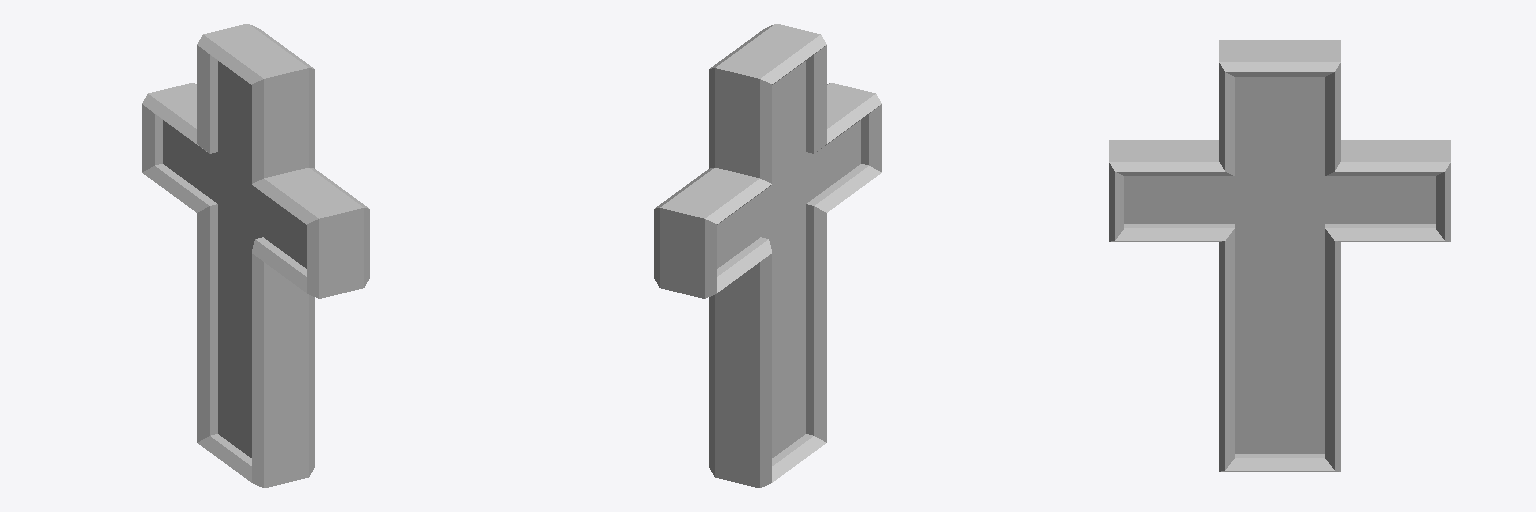
File: grave-2.obj
The picture shows the model from 3 angles: view 1: azimuth 30°, elevation 25°; view 2: azimuth 150°, elevation 25°; view 3: azimuth 270°, elevation 25°; orthographic projection.
Visible parts, largest first — view 1: cross_grave; view 2: cross_grave; view 3: cross_grave.
Part boxes in pixels (x1,y1,x2,y2): cross_grave: (142, 24, 369, 487); cross_grave: (654, 24, 881, 487); cross_grave: (1109, 40, 1450, 471).
Bounding box in the file's own units: 1.37 × 8.44 × 6.39.